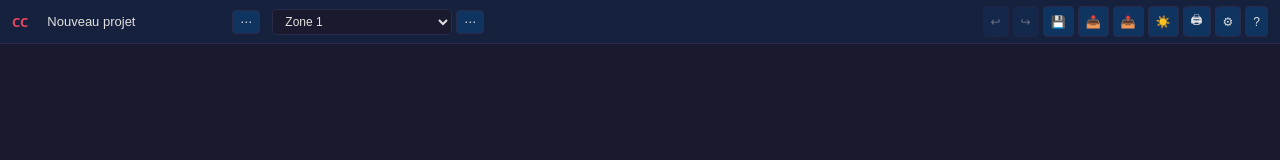
AppHeader › project actions menu › Should open the project actions menu when the "..." button next to the project name is clicked
Click the 1st button titled "Actions sur le projet" at x=246, y=22, box [232,10,260,34]
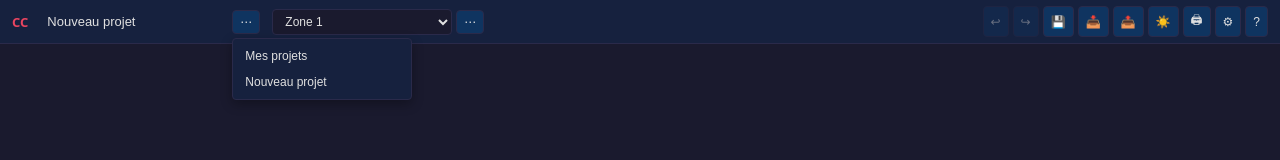
Expected: the button titled "Mes projets" is shown, [237,42,407,68]
Expected: the button titled "Nouveau projet" is shown, [237,68,407,94]
